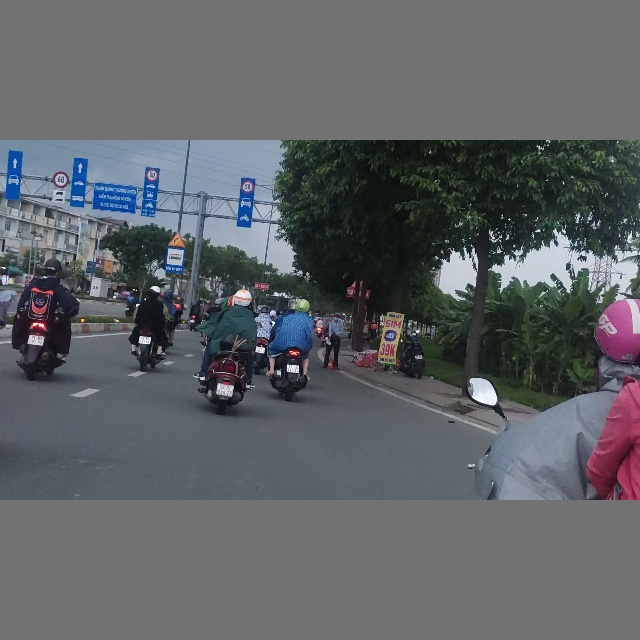I.434a: (164, 247, 185, 273)
P.127*50: (241, 180, 254, 194), (146, 169, 158, 182)
P.127*60: (52, 171, 69, 188)
S.505a*Xe tai va cong: (52, 189, 66, 204)
W.201b: (167, 232, 186, 247)
